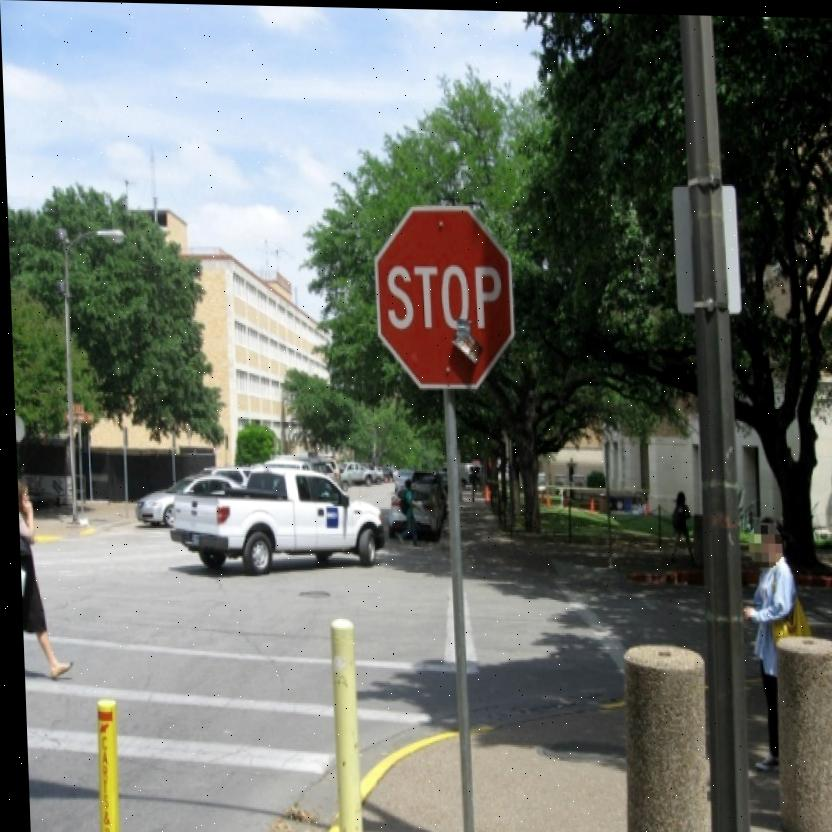Pole: (441, 404, 468, 832)
Sign: (371, 201, 515, 389)
